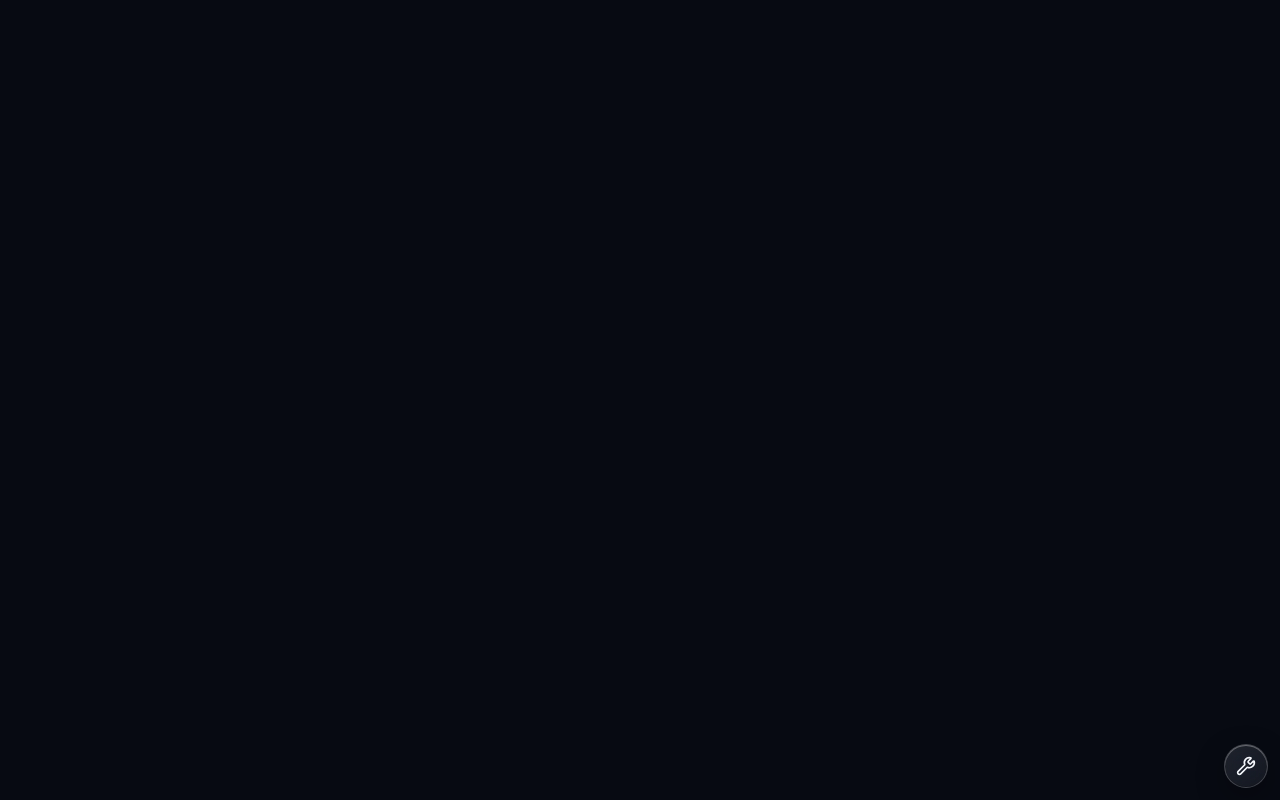
Test: TestConsole › shows the environment
Step 1. Click the button named "Open dev test console" → (1246, 766), box [1224,744,1268,788]
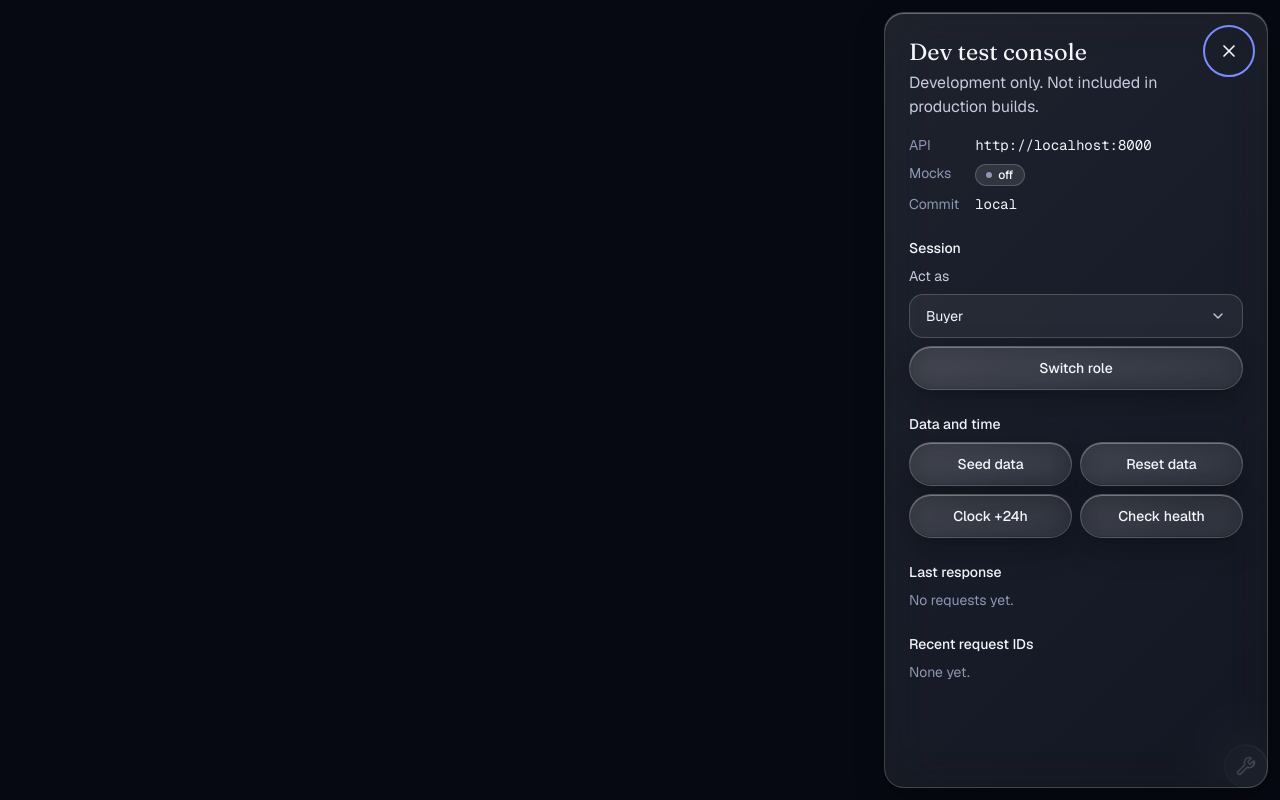
Expected: the dialog "Dev test console" shows "http://localhost:8000", [975,136,1152,154]
Expected: the dialog "Dev test console" shows "local", [975,195,1017,213]
